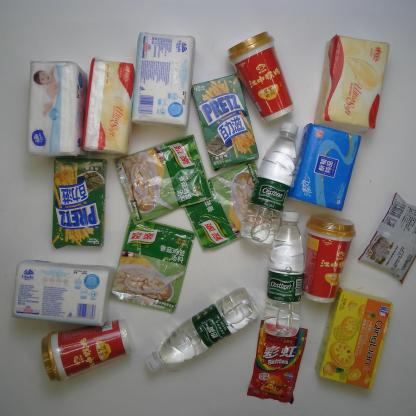Candy: (243, 318, 311, 406)
Dessert: (312, 284, 395, 393), (189, 72, 263, 172), (48, 152, 108, 252)
Drink: (144, 283, 262, 376), (232, 119, 302, 247), (261, 208, 307, 338)
Instant Drink: (223, 28, 297, 126), (36, 316, 137, 387), (301, 211, 359, 309)
Seasoner: (112, 132, 215, 226), (106, 212, 198, 317), (180, 157, 262, 252), (356, 190, 416, 286)
Tissue: (310, 32, 394, 136), (8, 257, 116, 330), (284, 121, 364, 213), (128, 30, 198, 131), (24, 60, 88, 160), (80, 55, 136, 159)
